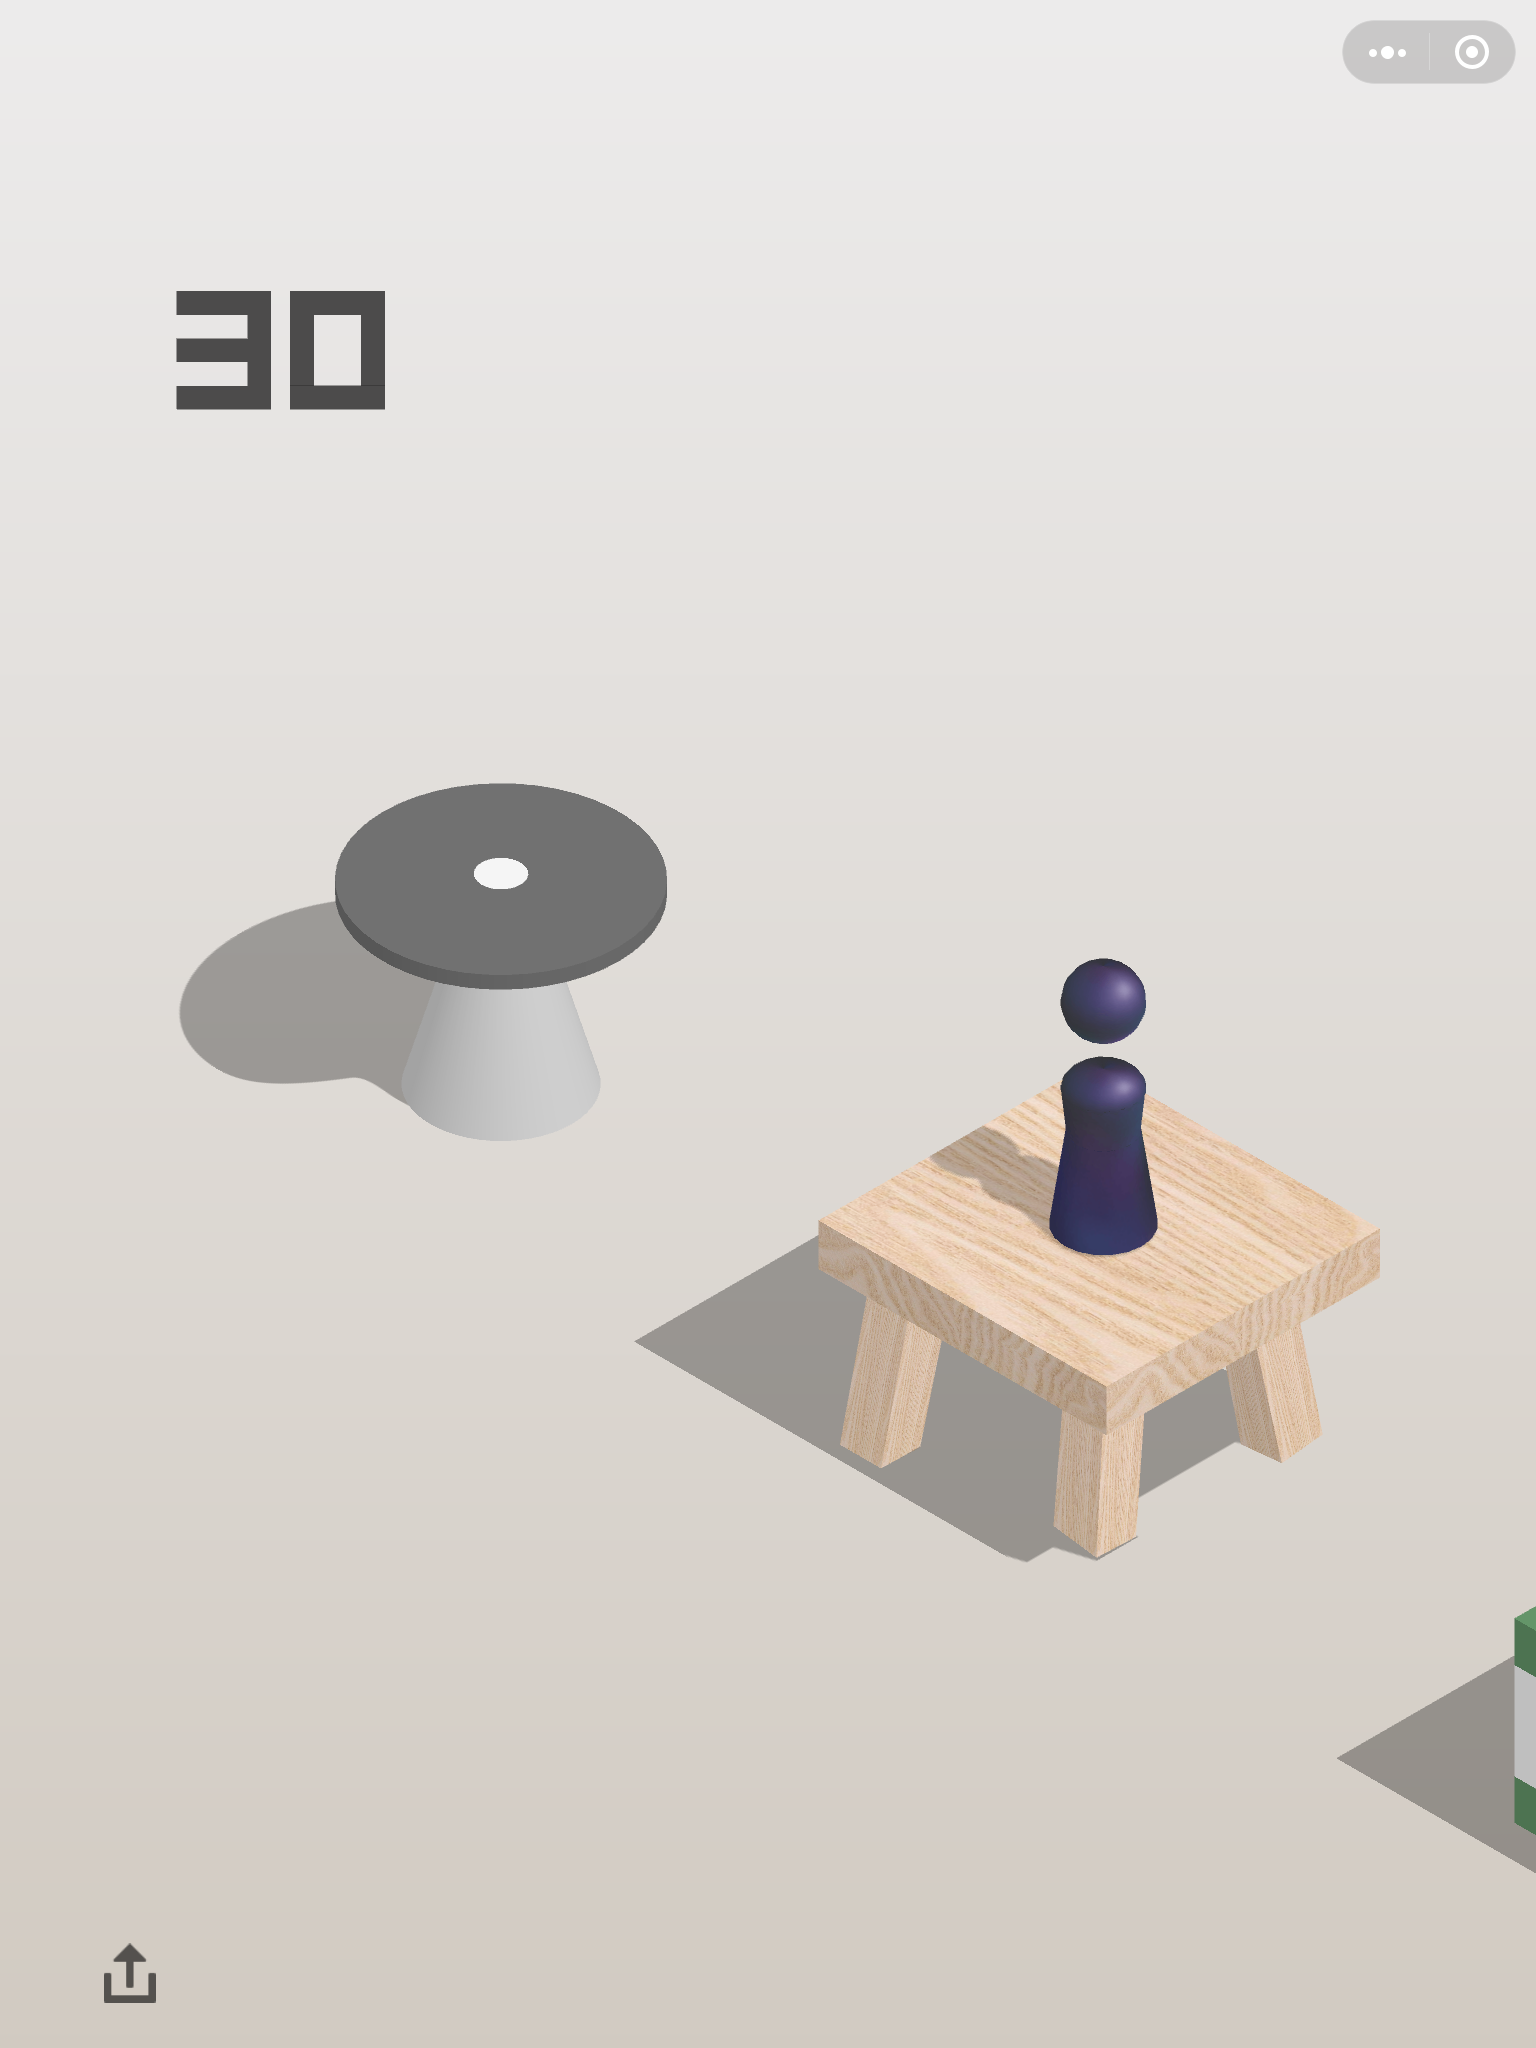c: (331, 777, 674, 1147)
f: (810, 1063, 1388, 1566)
r: (1046, 951, 1165, 1263)
